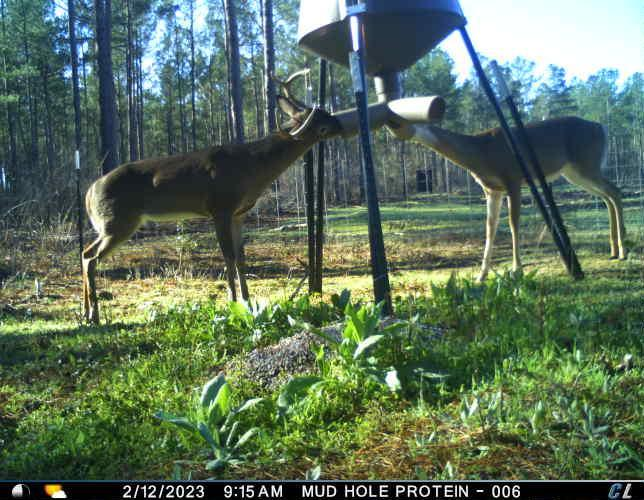Deer: (78, 62, 346, 328), (401, 87, 630, 274)
